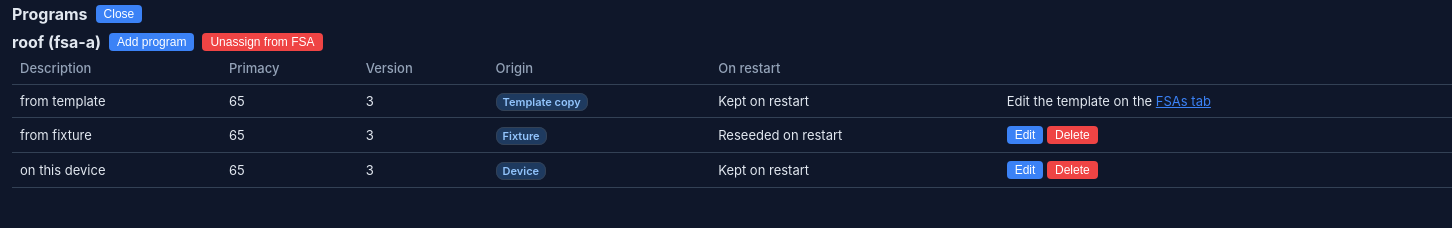
Scenario: DevicePrograms unassign from FSA › shows a 409 as sent, naming the blocking program, and keeps the programs
The image size is (1452, 228).
What coordinates should you click on to do the following:
click the button with test id "fsa-unassign-fsa-a"
I would click on:
 (262, 42)
Its box is [202,33,322,51].
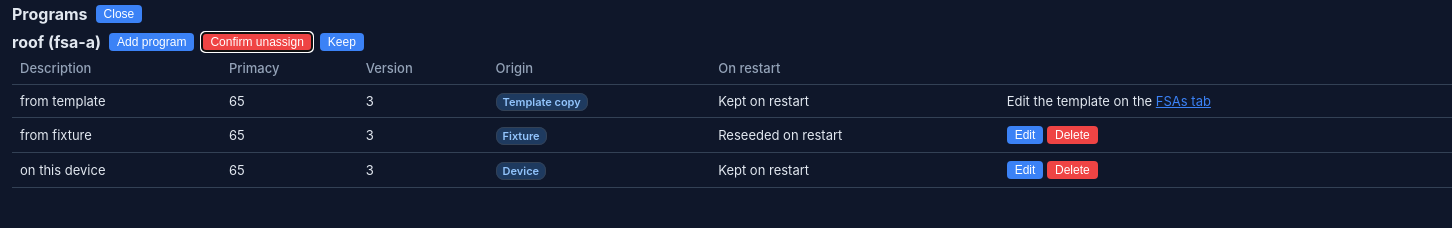
What coordinates should you click on to do the following:
click the button with test id "fsa-unassign-confirm-fsa-a"
I would click on:
 (257, 42)
Its box is [202,33,312,51].
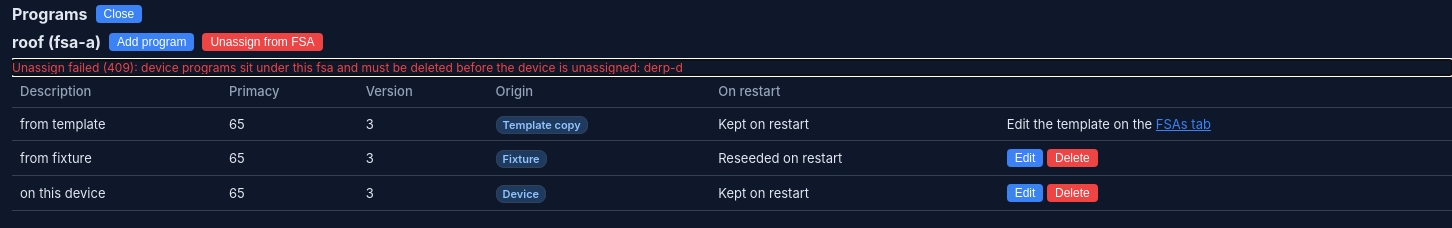
Expected: the row with test id "program-row-derp-d" is shown, [12,176,1451,210]
Result: the message with test id "fsa-unassign-error-fsa-a" shows "Unassign failed (409): device programs sit under this fsa and must be deleted before the device is unassigned: derp-d" at [12,60,683,75]
